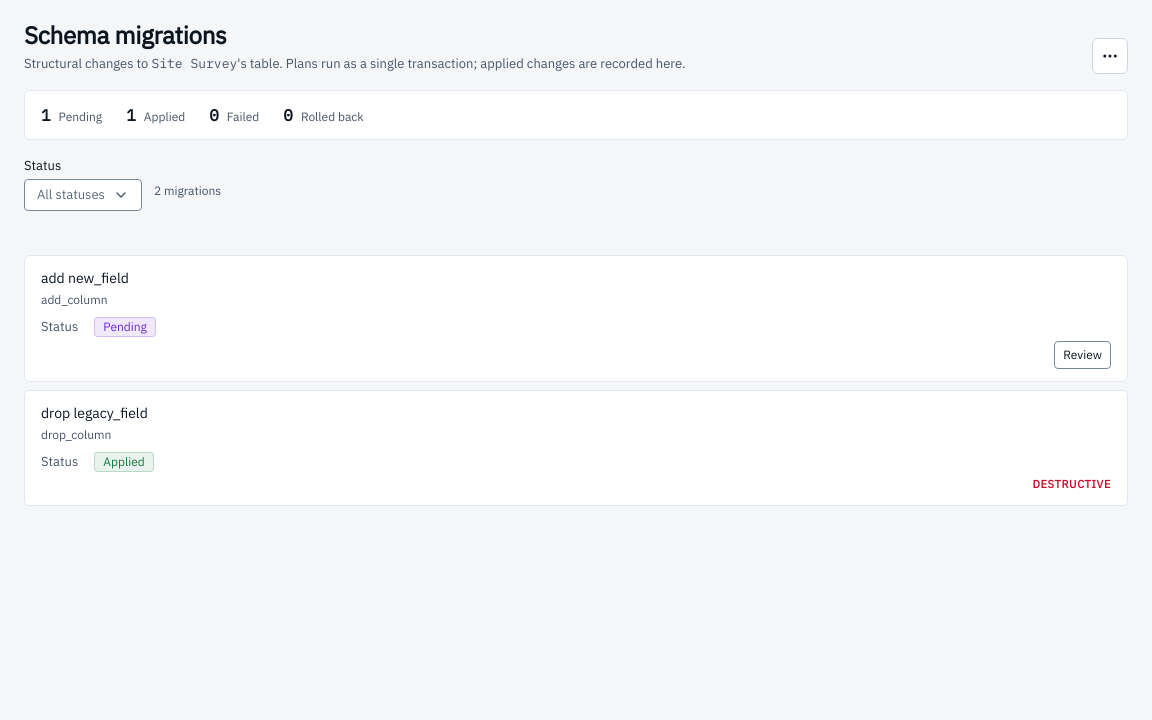
Test: SchemaMigrationsPage — detail modal › renders the error message for a failed migration
The width and height of the screenshot is (1152, 720).
Expected: the text "add new_field" is shown, [41,269,129,287]
Click the button "Review". click: (1083, 355)
box: [1054,341,1111,369]
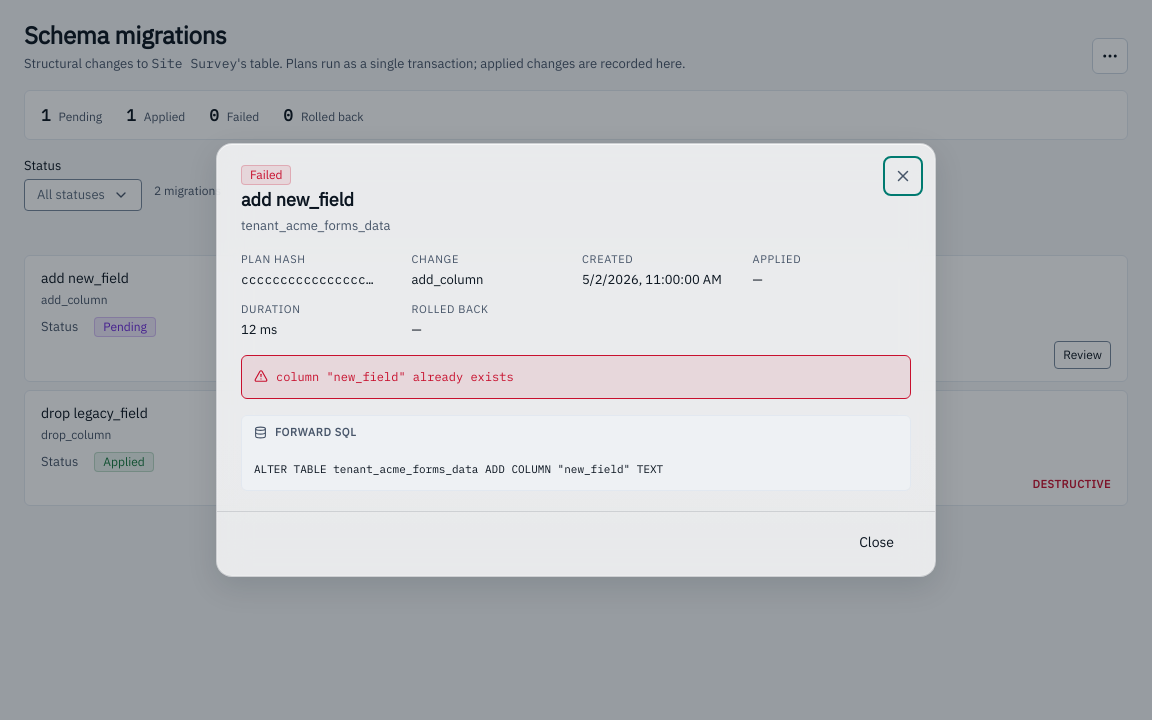
Now the text "column \"new_field\" already exists" is shown, box [276,368,514,386]
